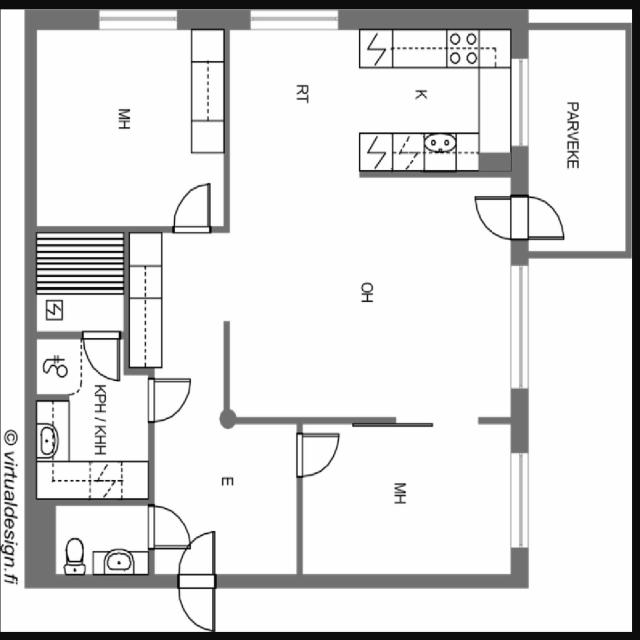door: (510, 197, 566, 240), (474, 197, 528, 240), (178, 532, 214, 588), (178, 574, 214, 629), (147, 378, 191, 422), (84, 331, 120, 381), (147, 507, 189, 548), (297, 434, 339, 475), (174, 184, 209, 232)
